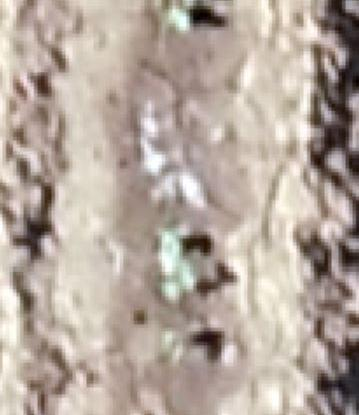cotton: (161, 266, 194, 296), (160, 331, 180, 364), (157, 231, 181, 258), (169, 9, 191, 29)
